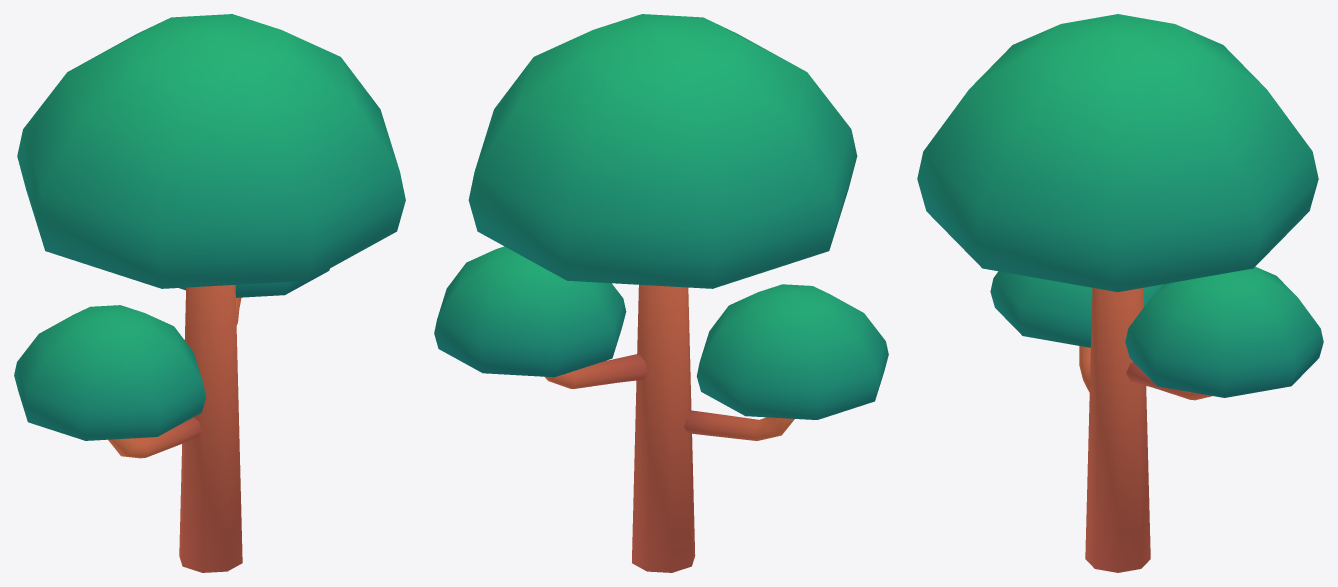
Rendered from Tree5_Green.glb.
3 renders of one model, left to right at view 1: azimuth 30°, elevation 25°; view 2: azimuth 150°, elevation 25°; view 3: azimuth 270°, elevation 25°, orthographic.
Visible parts, largest first — view 1: Tree5_Green; view 2: Tree5_Green; view 3: Tree5_Green.
Boxes of the visible parts, box(x1,y1,x2,y2) form: Tree5_Green: box(14, 14, 405, 572); Tree5_Green: box(434, 14, 888, 572); Tree5_Green: box(917, 14, 1323, 572).
Size of the model in its own units: 2.85 by 3.82 by 2.68.
Materials: 1 (1 with a texture image).
